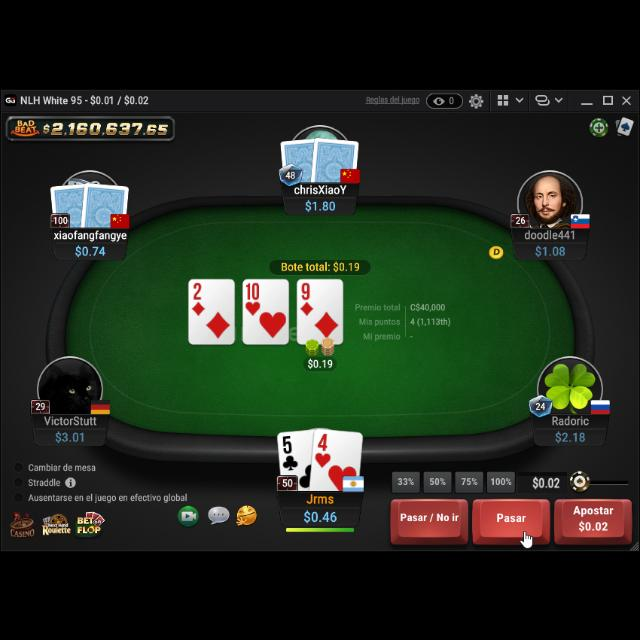2d: (190, 281, 208, 317)
4h: (314, 430, 332, 468)
5c: (280, 434, 302, 471)
9d: (299, 280, 315, 318)
Th: (243, 280, 261, 316)
bet_text: (307, 355, 335, 369)
card_back: (310, 134, 362, 188), (80, 182, 130, 234), (48, 182, 90, 230), (280, 138, 322, 185)
dealer: (487, 242, 508, 260)
hero_active: (385, 494, 635, 548)
pot_text: (280, 258, 362, 274)
stack_text: (302, 507, 338, 525), (534, 242, 566, 260), (74, 241, 108, 257), (54, 428, 86, 444), (304, 199, 338, 213), (554, 430, 588, 444)
